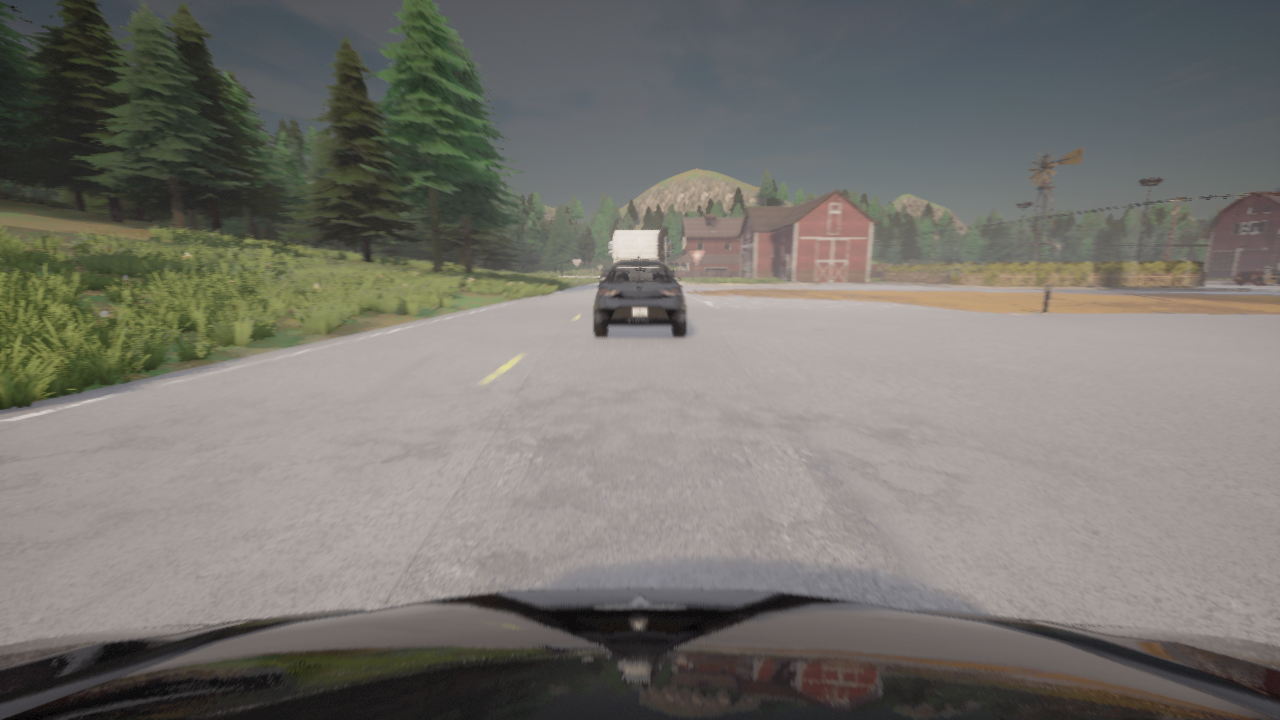cyclist: (0, 588, 1279, 719), (594, 260, 685, 336), (607, 228, 673, 276), (1234, 269, 1279, 284), (600, 270, 609, 284), (1271, 270, 1279, 274)
